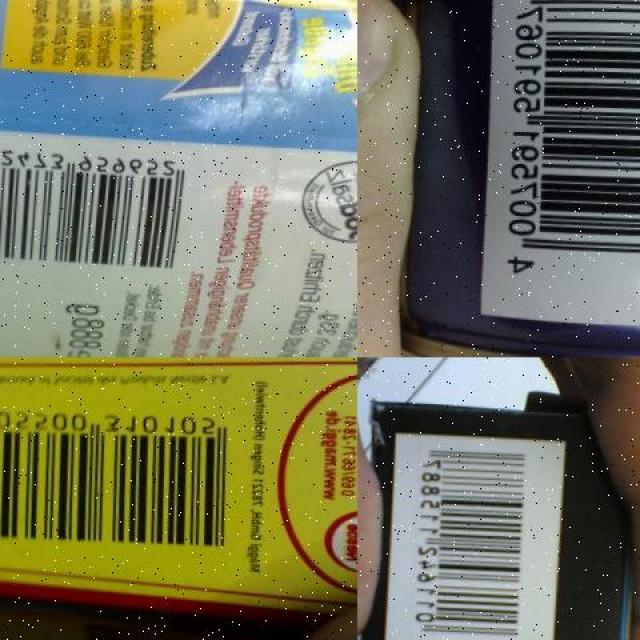Barcode: (0, 393, 243, 563), (501, 0, 640, 291), (388, 429, 571, 640), (0, 132, 193, 270)
